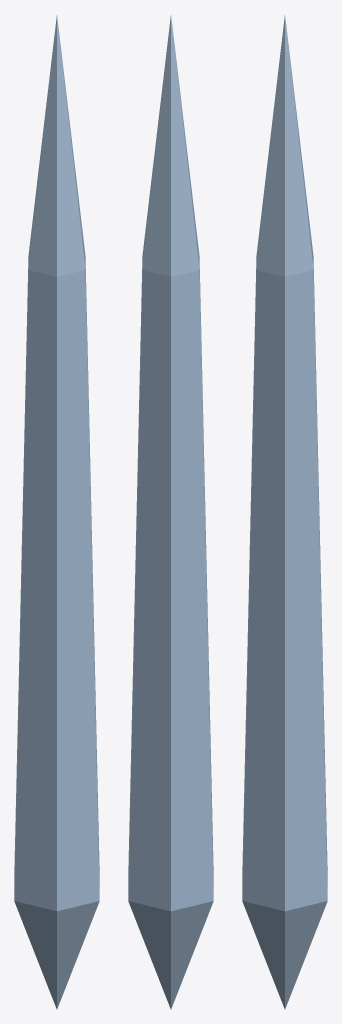
The model's file is Hava_damla.fbx.
3 renders of one model, left to right at view 1: azimuth 30°, elevation 25°; view 2: azimuth 150°, elevation 25°; view 3: azimuth 330°, elevation 25°, orthographic.
Visible parts, largest first — view 1: Hava_damla; view 2: Hava_damla; view 3: Hava_damla.
Part boxes in pixels (x1,y1,x2,y2): Hava_damla: [14, 15, 99, 1009]; Hava_damla: [128, 15, 213, 1009]; Hava_damla: [242, 15, 327, 1009].
Size of the model in its own units: 0.09 by 1 by 0.0779.
